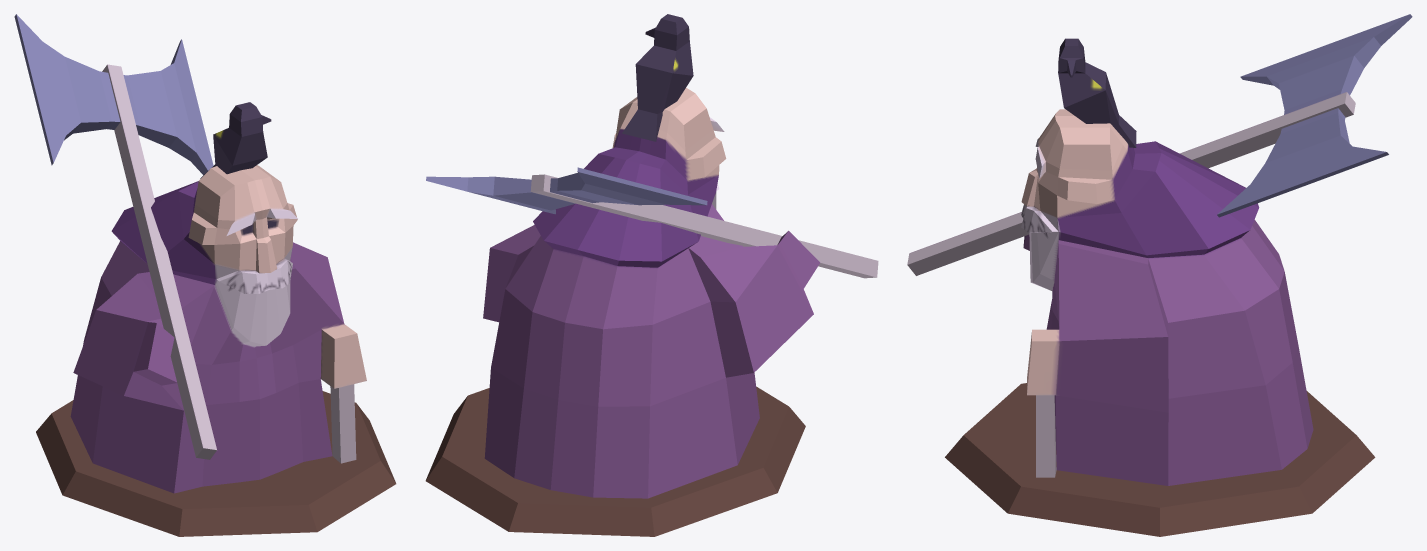
Rendered from Asset_Pawn_Grekhan.fbx.
The picture shows the model from 3 angles, left to right: view 1: azimuth 30°, elevation 25°; view 2: azimuth 150°, elevation 25°; view 3: azimuth 270°, elevation 25°; orthographic projection. The views are drawn at different scales.
Visible parts, largest first — view 1: STP_polySurface_Pauwn, Grekhan_stand, STP_pCube4, STP_pCube3, STP_polySurface_Raven; view 2: STP_polySurface_Pauwn, Grekhan_stand, STP_pCube4, STP_pCube3, STP_polySurface_Raven; view 3: STP_polySurface_Pauwn, Grekhan_stand, STP_pCube4, STP_pCube3, STP_polySurface_Raven.
Part boxes in pixels (x1=…): STP_polySurface_Pauwn: x1=70, y1=165, x2=366, y2=493; Grekhan_stand: x1=36, y1=391, x2=396, y2=536; STP_pCube4: x1=14, y1=14, x2=213, y2=174; STP_pCube3: x1=102, y1=64, x2=216, y2=459; STP_polySurface_Raven: x1=200, y1=102, x2=271, y2=178; STP_polySurface_Pauwn: x1=483, y1=87, x2=820, y2=498; Grekhan_stand: x1=425, y1=386, x2=805, y2=536; STP_pCube4: x1=426, y1=167, x2=707, y2=214; STP_pCube3: x1=530, y1=174, x2=878, y2=278; STP_polySurface_Raven: x1=622, y1=14, x2=693, y2=141; STP_polySurface_Pauwn: x1=1021, y1=109, x2=1313, y2=485; Grekhan_stand: x1=945, y1=383, x2=1375, y2=536; STP_pCube4: x1=1217, y1=14, x2=1412, y2=217; STP_pCube3: x1=907, y1=92, x2=1355, y2=275; STP_polySurface_Raven: x1=1058, y1=38, x2=1136, y2=147.
Size of the model in its own units: 39.89 by 47.79 by 53.52.
